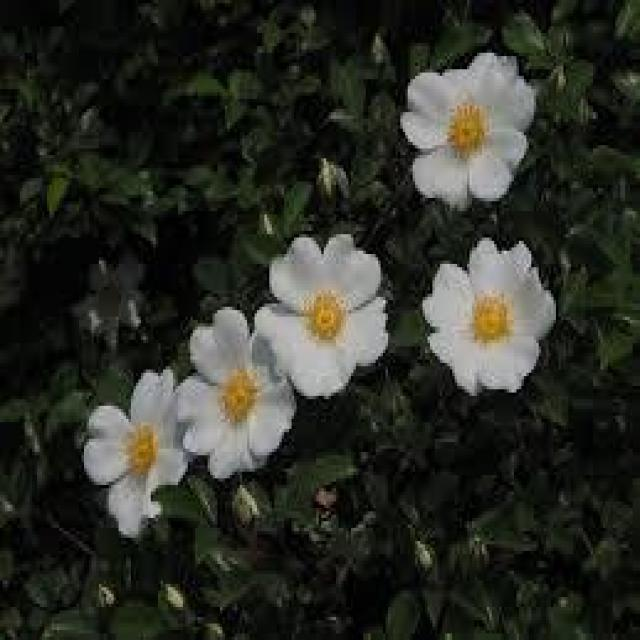organic waste: (376, 51, 544, 213), (256, 228, 399, 409), (182, 305, 308, 480), (428, 241, 560, 396), (75, 353, 189, 528)
